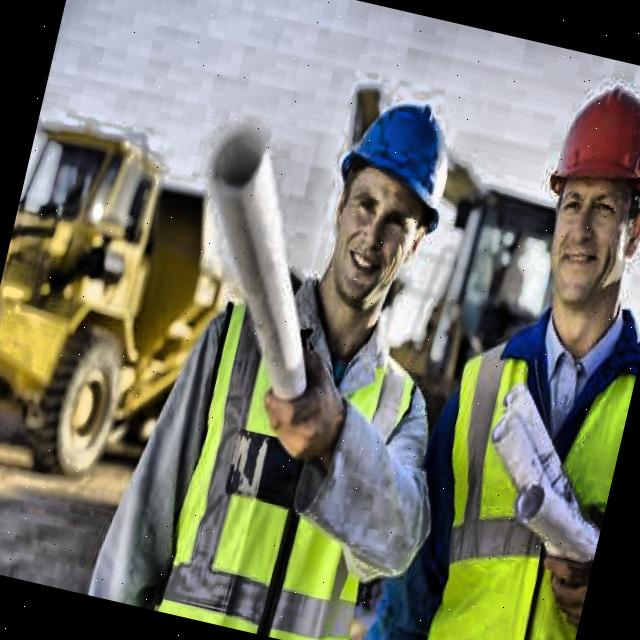helmet: (288, 64, 488, 352), (494, 56, 640, 349)
